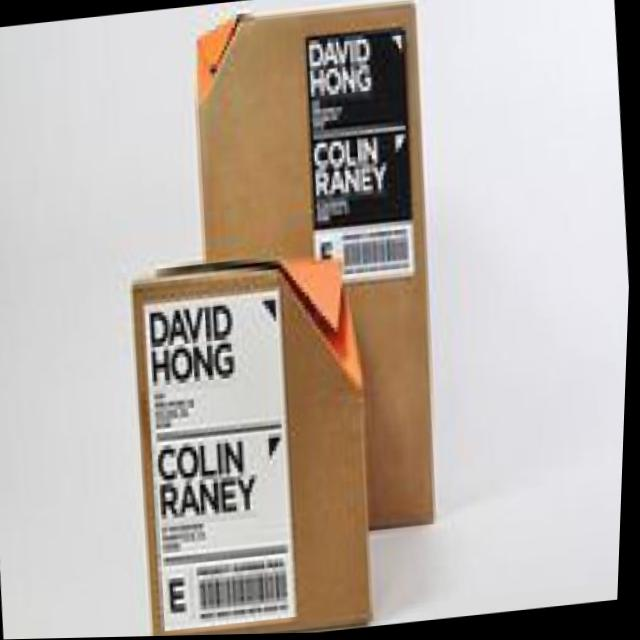box: (166, 0, 478, 559), (117, 226, 396, 638)
